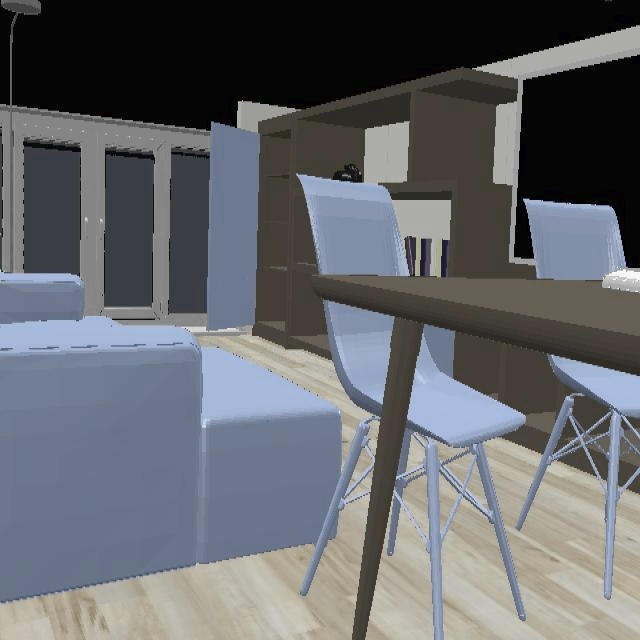book: (404, 236, 449, 277), (601, 268, 640, 296)
bookshelf: (293, 39, 617, 277)
chair: (409, 325, 526, 448), (298, 175, 410, 276), (524, 199, 627, 280), (324, 300, 394, 417), (547, 355, 640, 420)
monitor: (514, 48, 640, 268)
shelf: (257, 129, 324, 339)
sofa: (0, 272, 342, 604)
table: (311, 276, 640, 640)
